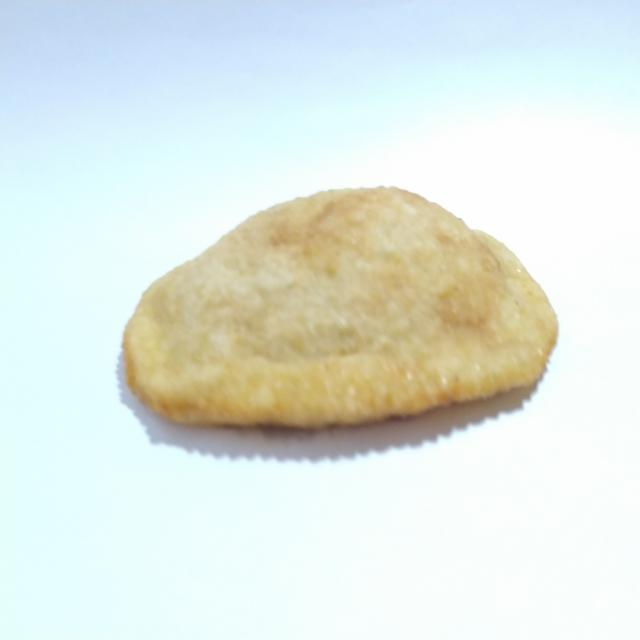Pastel_Mandio: (110, 172, 565, 458)
